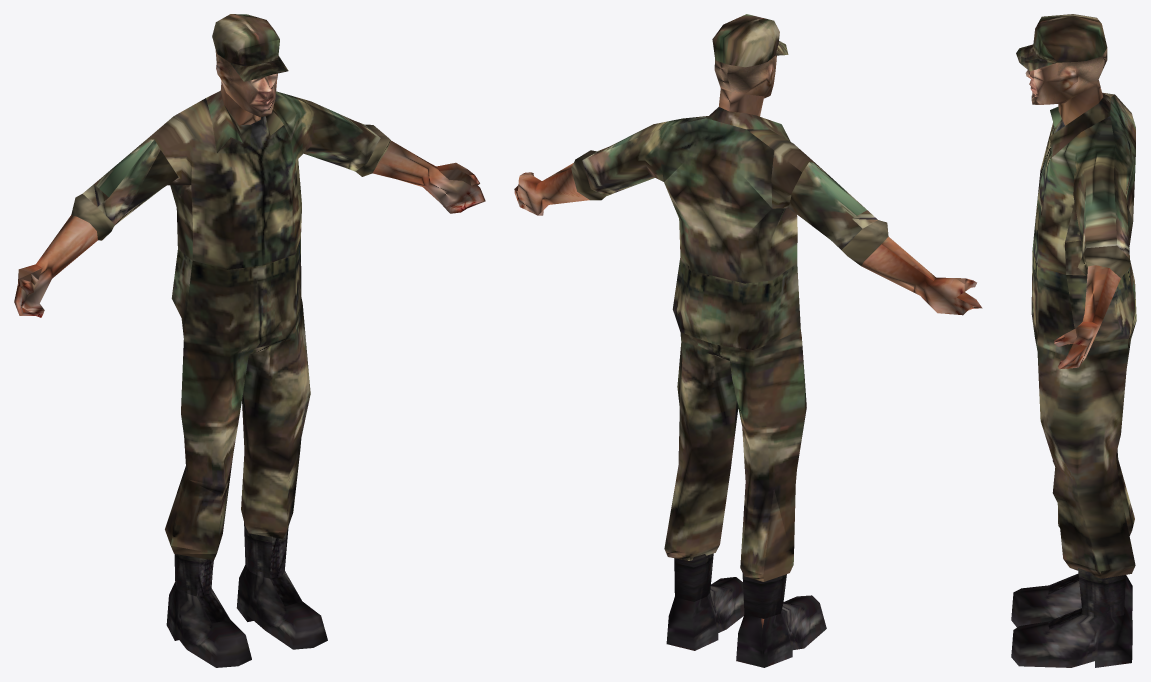
Rendered from C4Srgt.glb.
3 renders of one model, left to right at view 1: azimuth 30°, elevation 25°; view 2: azimuth 150°, elevation 25°; view 3: azimuth 270°, elevation 25°, orthographic.
Visible parts, largest first — view 1: _C4Srgt; view 2: _C4Srgt; view 3: _C4Srgt.
Part boxes in pixels (x1,y1,x2,y2): _C4Srgt: (14,14,485,667); _C4Srgt: (514,14,982,667); _C4Srgt: (1011,14,1136,667).
Bounding box in the file's own units: 1.6 × 2.03 × 0.371.
2 materials, 2 textured.
